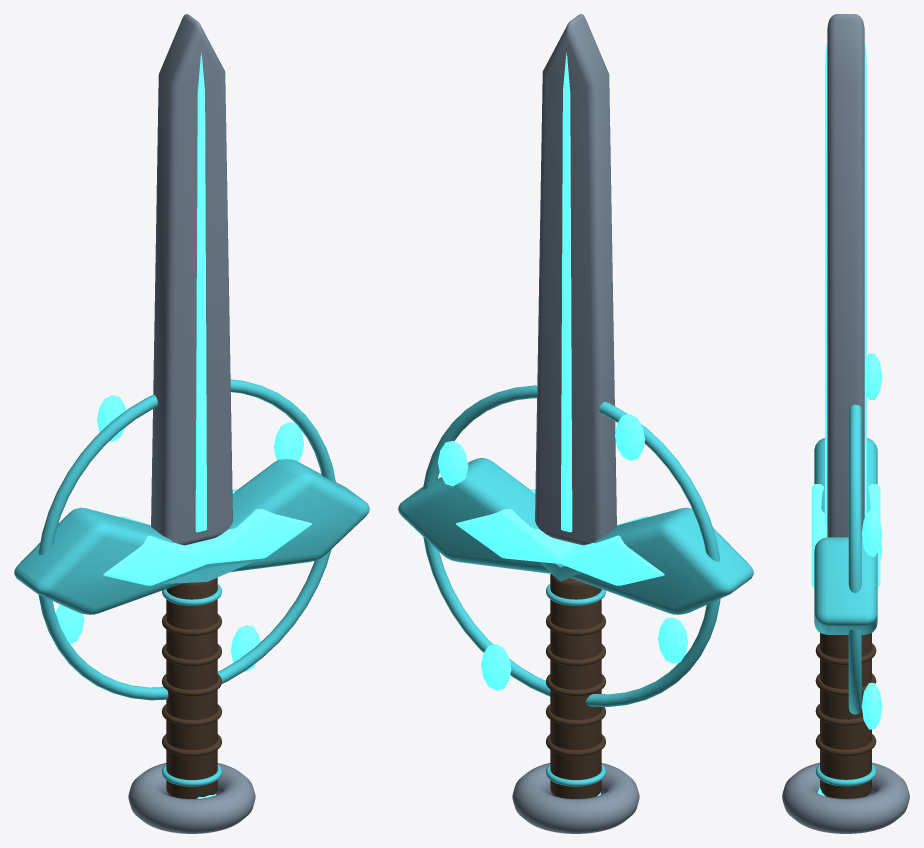
File: sword_v2.glb
3 renders of one model, left to right at view 1: azimuth 30°, elevation 25°; view 2: azimuth 150°, elevation 25°; view 3: azimuth 270°, elevation 25°, orthographic.
Parts seen in each view (by area): view 1: FACETED_BLADE_PRIMARY, WINGED_GUARD_ACCENT, VARIANT_HALO_ACCENT, GRIP_SECONDARY, GUARD_INLAY_EMISSIVE, RING_POMMEL_PRIMARY, BLADE_FULLER_EMISSIVE, VARIANT_GEM_EMISSIVE, VARIANT_GEM_EMISSIVE.003, VARIANT_GEM_EMISSIVE.002, VARIANT_GEM_EMISSIVE.001; view 2: FACETED_BLADE_PRIMARY, WINGED_GUARD_ACCENT, VARIANT_HALO_ACCENT, GRIP_SECONDARY, GUARD_INLAY_EMISSIVE, RING_POMMEL_PRIMARY, BLADE_FULLER_EMISSIVE, VARIANT_GEM_EMISSIVE.001, VARIANT_GEM_EMISSIVE.002, VARIANT_GEM_EMISSIVE.003, VARIANT_GEM_EMISSIVE; view 3: FACETED_BLADE_PRIMARY, WINGED_GUARD_ACCENT, GRIP_SECONDARY, RING_POMMEL_PRIMARY, VARIANT_HALO_ACCENT, BLADE_FULLER_EMISSIVE, GUARD_INLAY_EMISSIVE, VARIANT_GEM_EMISSIVE.003, VARIANT_GEM_EMISSIVE, VARIANT_GEM_EMISSIVE.001, GRIP_WRAP_ACCENT, GRIP_WRAP_SECONDARY (+3 smaller).
Boxes of the visible parts, left/top/right/bottom form: FACETED_BLADE_PRIMARY: left=151, top=14, right=232, bottom=545; WINGED_GUARD_ACCENT: left=14, top=459, right=369, bottom=614; VARIANT_HALO_ACCENT: left=38, top=379, right=335, bottom=700; GRIP_SECONDARY: left=166, top=577, right=217, bottom=798; GUARD_INLAY_EMISSIVE: left=103, top=489, right=311, bottom=585; RING_POMMEL_PRIMARY: left=128, top=763, right=255, bottom=833; BLADE_FULLER_EMISSIVE: left=195, top=53, right=206, bottom=532; VARIANT_GEM_EMISSIVE: left=274, top=422, right=304, bottom=461; VARIANT_GEM_EMISSIVE.003: left=230, top=625, right=260, bottom=671; VARIANT_GEM_EMISSIVE.002: left=55, top=604, right=84, bottom=644; VARIANT_GEM_EMISSIVE.001: left=97, top=395, right=125, bottom=441; FACETED_BLADE_PRIMARY: left=535, top=14, right=616, bottom=545; WINGED_GUARD_ACCENT: left=398, top=458, right=753, bottom=614; VARIANT_HALO_ACCENT: left=422, top=385, right=720, bottom=706; GRIP_SECONDARY: left=550, top=574, right=601, bottom=798; GUARD_INLAY_EMISSIVE: left=456, top=489, right=664, bottom=585; RING_POMMEL_PRIMARY: left=512, top=763, right=639, bottom=833; BLADE_FULLER_EMISSIVE: left=561, top=53, right=572, bottom=532; VARIANT_GEM_EMISSIVE.001: left=614, top=414, right=645, bottom=460; VARIANT_GEM_EMISSIVE.002: left=658, top=617, right=688, bottom=663; VARIANT_GEM_EMISSIVE.003: left=481, top=644, right=511, bottom=690; VARIANT_GEM_EMISSIVE: left=438, top=441, right=468, bottom=486; FACETED_BLADE_PRIMARY: left=827, top=14, right=864, bottom=537; WINGED_GUARD_ACCENT: left=814, top=438, right=877, bottom=634; GRIP_SECONDARY: left=820, top=633, right=871, bottom=798; RING_POMMEL_PRIMARY: left=782, top=762, right=909, bottom=833; VARIANT_HALO_ACCENT: left=848, top=404, right=861, bottom=714; BLADE_FULLER_EMISSIVE: left=825, top=43, right=866, bottom=524; GUARD_INLAY_EMISSIVE: left=811, top=484, right=880, bottom=587; VARIANT_GEM_EMISSIVE.003: left=861, top=682, right=881, bottom=729; VARIANT_GEM_EMISSIVE: left=861, top=510, right=881, bottom=556; VARIANT_GEM_EMISSIVE.001: left=867, top=353, right=881, bottom=400; GRIP_WRAP_ACCENT: left=815, top=764, right=876, bottom=786; GRIP_WRAP_SECONDARY: left=815, top=734, right=876, bottom=755.
Size of the model in its own units: 2.1 by 4.78 by 0.69.
